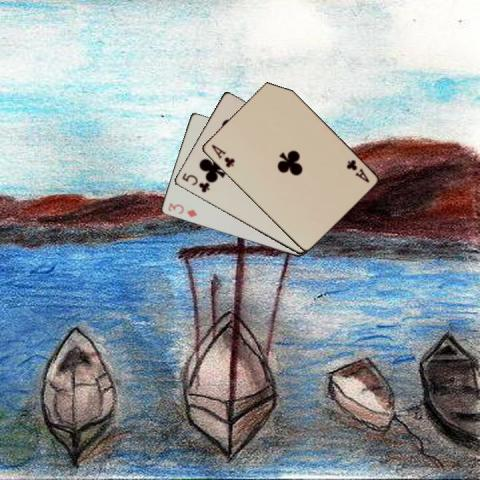3d: (165, 200, 198, 219)
5c: (178, 169, 210, 194)
Ac: (208, 141, 236, 169), (342, 157, 370, 184)
